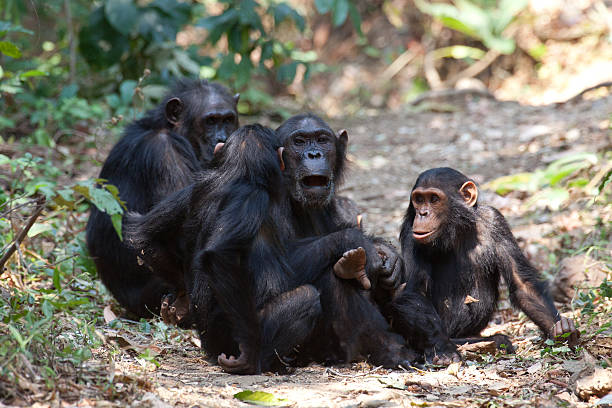chimpanzee: (268, 111, 361, 215), (399, 157, 493, 256)
